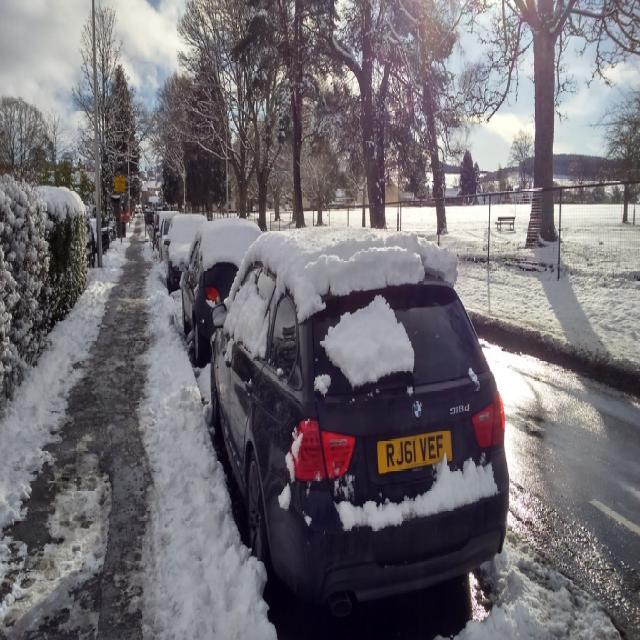other: (211, 224, 511, 596), (180, 220, 265, 362), (165, 216, 207, 288), (152, 212, 177, 244), (156, 216, 174, 257), (143, 207, 154, 224)
